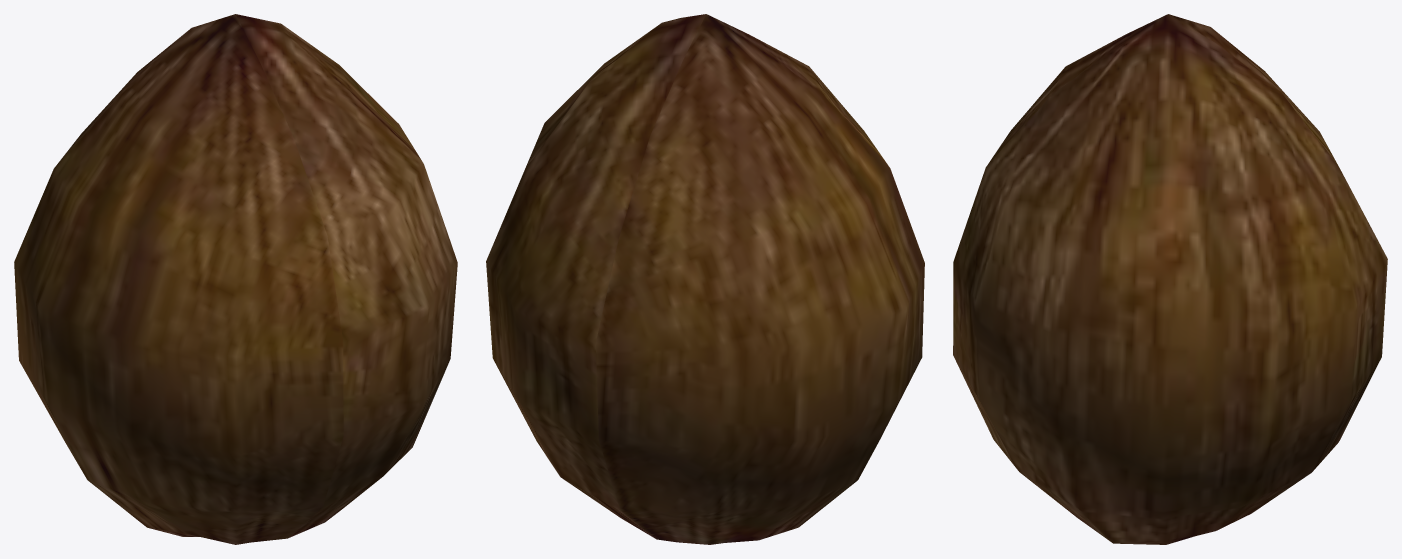
File: coconut.static.glb
The picture shows the model from 3 angles, left to right: view 1: azimuth 30°, elevation 25°; view 2: azimuth 150°, elevation 25°; view 3: azimuth 270°, elevation 25°; orthographic projection.
Visible parts, largest first — view 1: coconut.static; view 2: coconut.static; view 3: coconut.static.
Boxes of the visible parts, box(x1,y1,x2,y2) form: coconut.static: box(14, 14, 457, 544); coconut.static: box(486, 14, 924, 544); coconut.static: box(953, 14, 1387, 544).
Bounding box in the file's own units: 0.2976 × 0.377 × 0.2892.
Materials: 1 (1 with a texture image).
